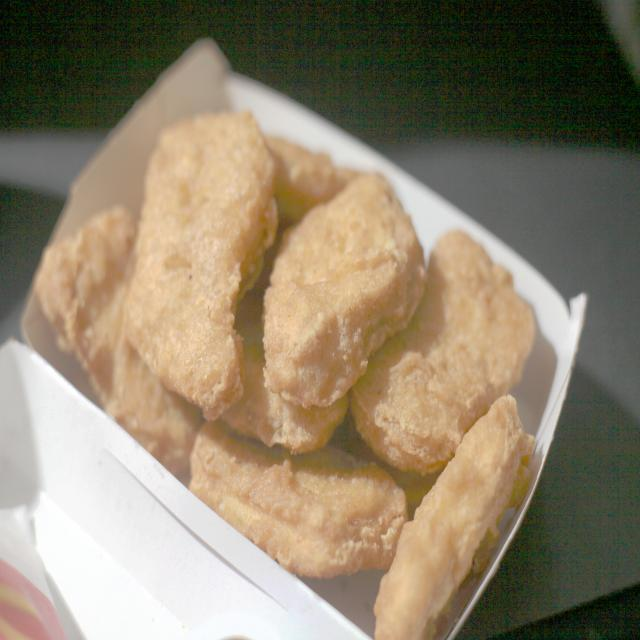chicken_nuggets: (132, 110, 276, 416), (356, 228, 534, 470), (44, 207, 194, 472), (265, 175, 425, 406), (376, 394, 523, 640), (188, 422, 407, 580)
